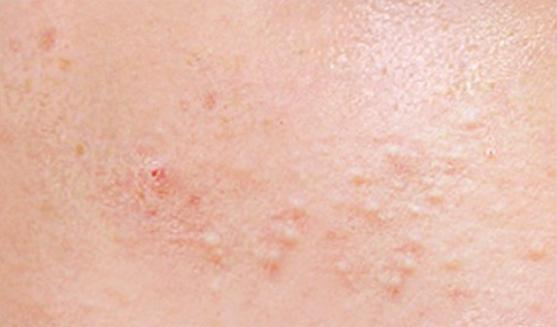whitehead: (252, 195, 322, 280), (384, 221, 435, 302), (191, 214, 235, 282), (454, 102, 496, 136), (519, 233, 555, 267)
